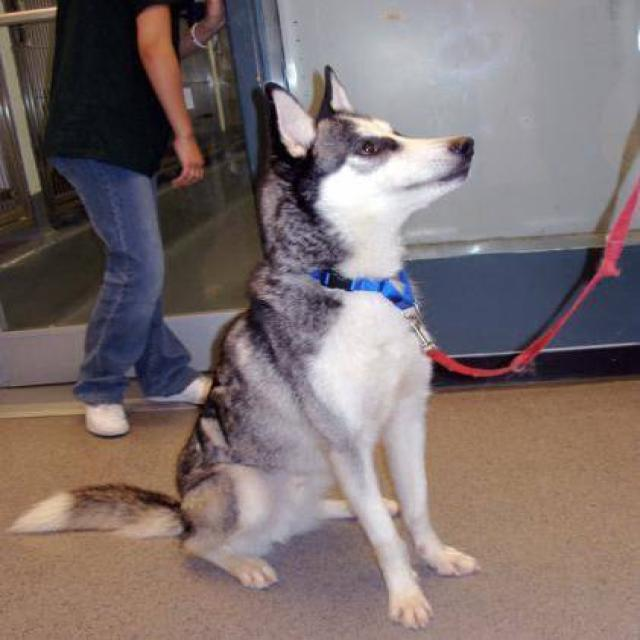dog: (4, 63, 482, 630)
